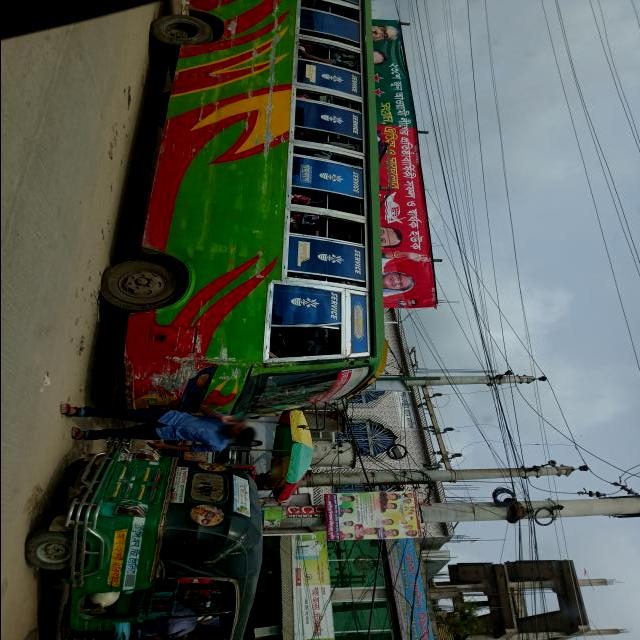bus: (100, 2, 386, 420)
